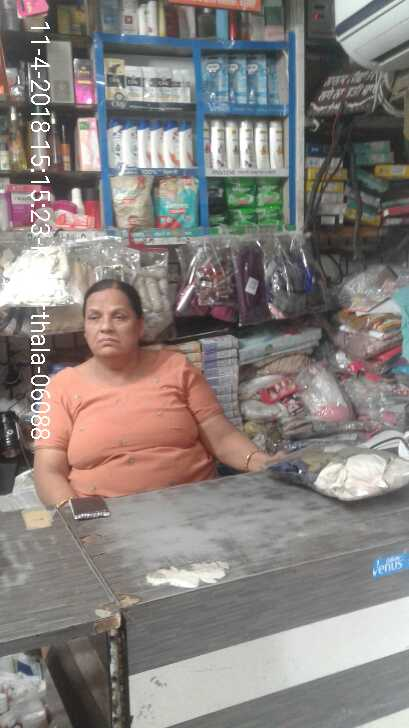venus: (203, 56, 227, 103), (247, 56, 268, 101), (227, 56, 247, 103), (268, 57, 277, 101)
